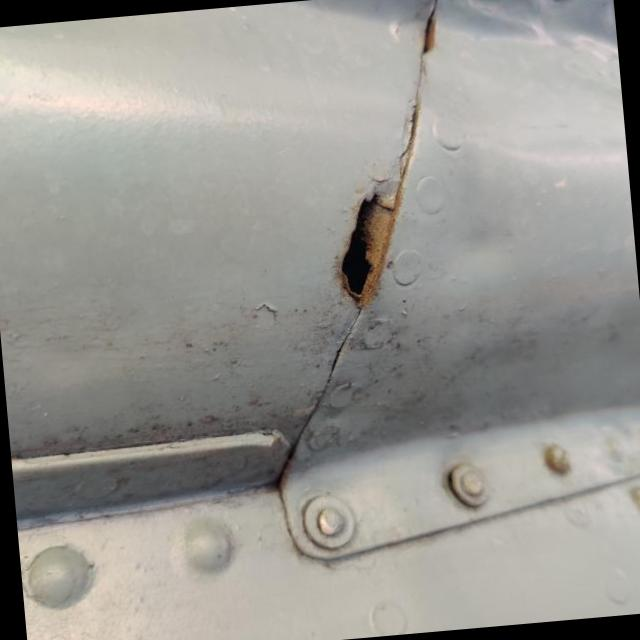Crack: (334, 158, 406, 316)
